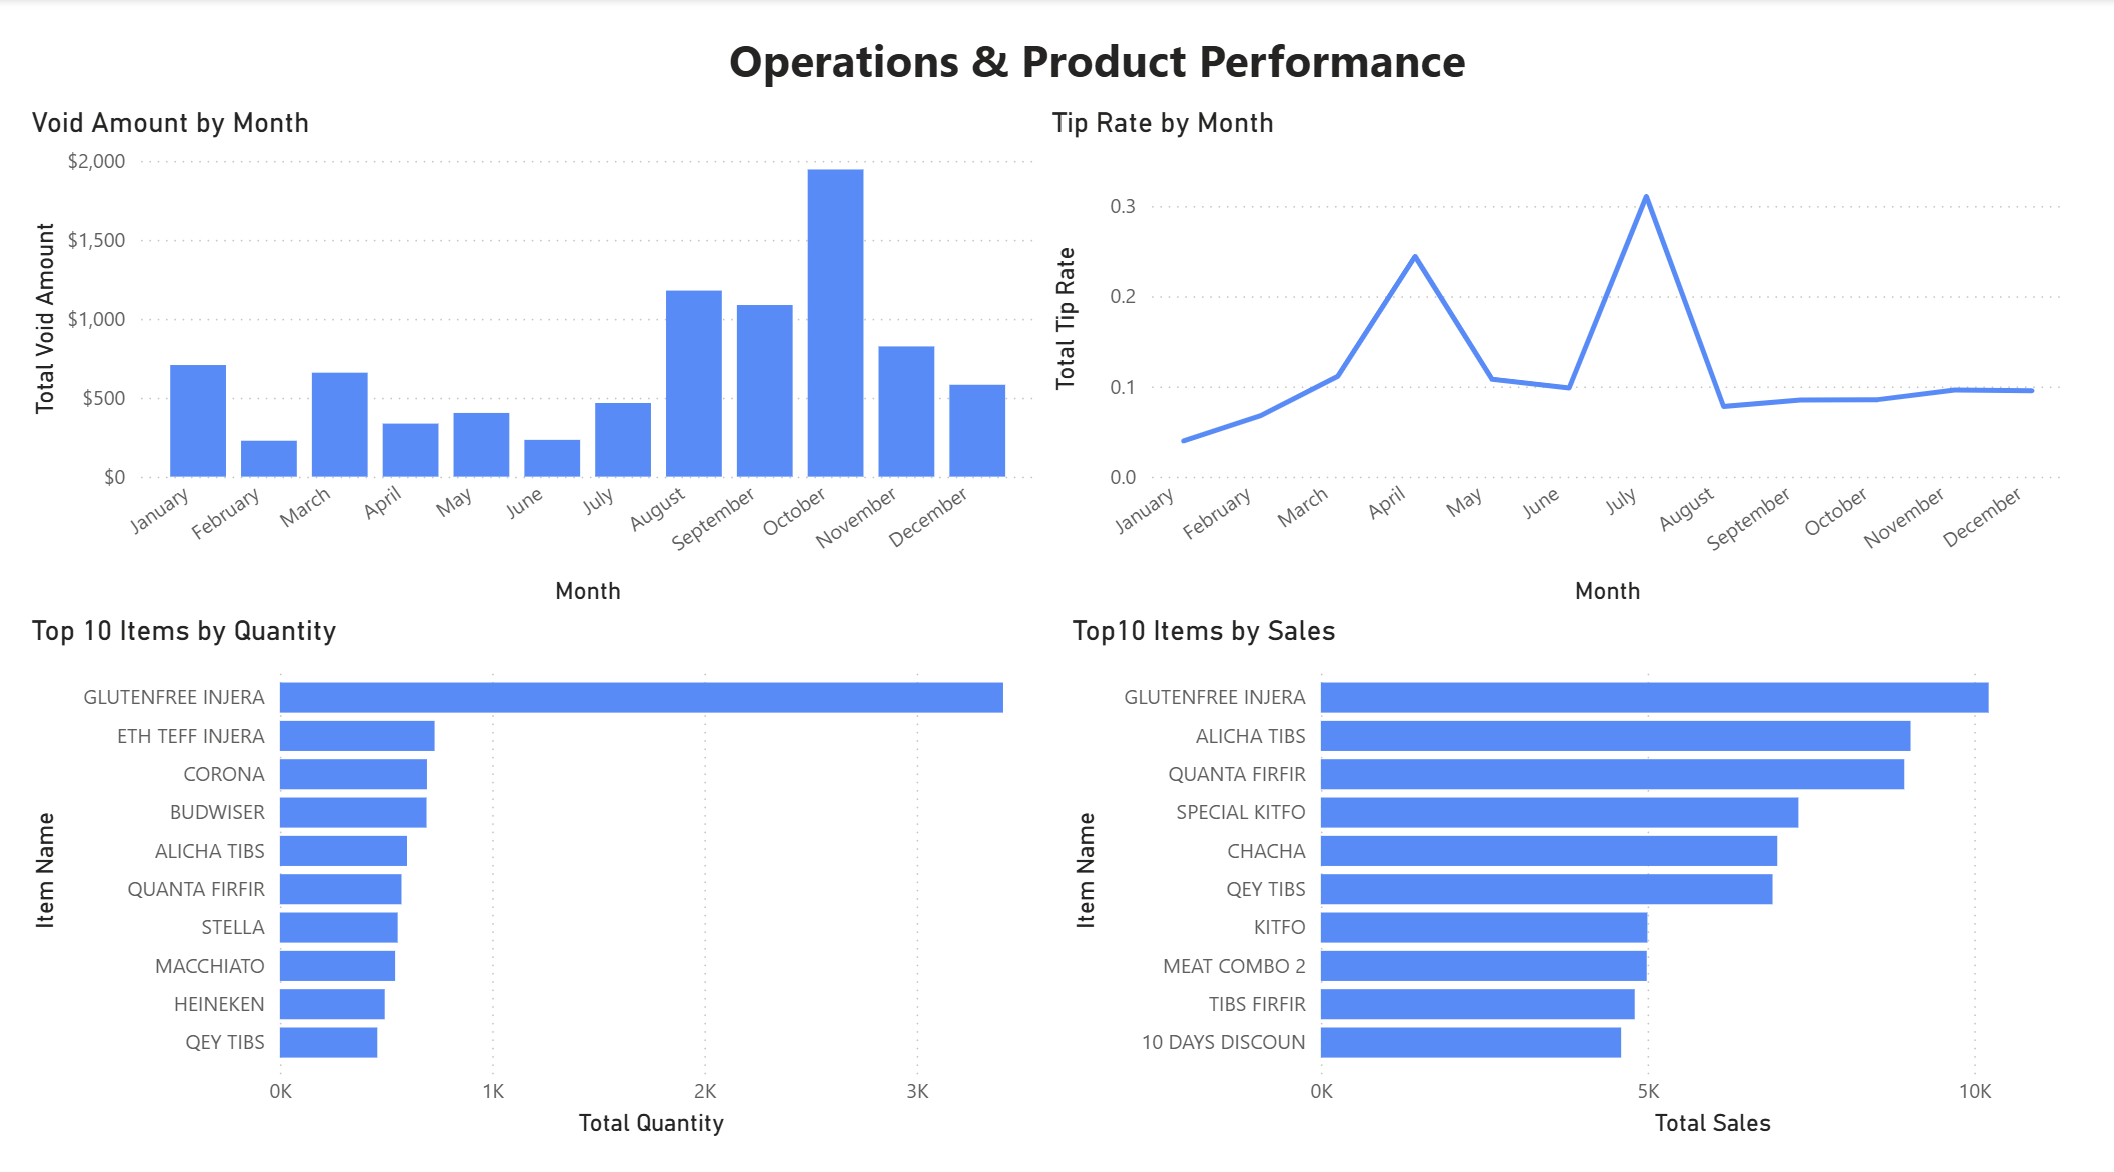

This screenshot's page, from the dashboard's own definition file:
{"tool":"powerbi","page":{"name":"Page 2","canvas":[1280,720],"ordinal":1},"visuals":[{"type":"lineChart","title":"Tip Rate by Month","fields":{"Category":["MonthSort.Month"],"Y":["Sum(MonthlyKPIsTable.Tip Rate)"]},"box":[627.8,65.6,617.8,304.4],"z":0},{"type":"clusteredColumnChart","title":" Void Amount by Month","fields":{"Category":["MonthSort.Month"],"Y":["Sum(MonthlyKPIsTable.Void Amount)"]},"box":[14.4,65.6,613.3,304.4],"z":1000},{"type":"barChart","title":"Top 10 Items by Quantity","fields":{"Category":["Item_Summary.Item Name"],"Y":["Sum(Item_Summary.Total Quantity)"]},"box":[14.4,370,613.3,318.9],"z":2000},{"type":"barChart","title":"Top10 Items by Sales","fields":{"Category":["Item_Summary.Item Name"],"Y":["Sum(Item_Summary.Total Sales)"]},"box":[640,370,641.1,318.9],"z":3000},{"type":"textbox","box":[383.3,13.3,553.3,52.2],"z":3001}]}

Visuals, with their boxes in screenshot pixels (x1, y1, x2, y2), scaled from the page's 1280x720 canvas onto the 2114x1172 screenshot:
"Tip Rate by Month" lineChart: [1037, 107, 2057, 602]
" Void Amount by Month" clusteredColumnChart: [24, 107, 1037, 602]
"Top 10 Items by Quantity" barChart: [24, 602, 1037, 1121]
"Top10 Items by Sales" barChart: [1057, 602, 2113, 1121]
textbox: [633, 22, 1547, 107]
